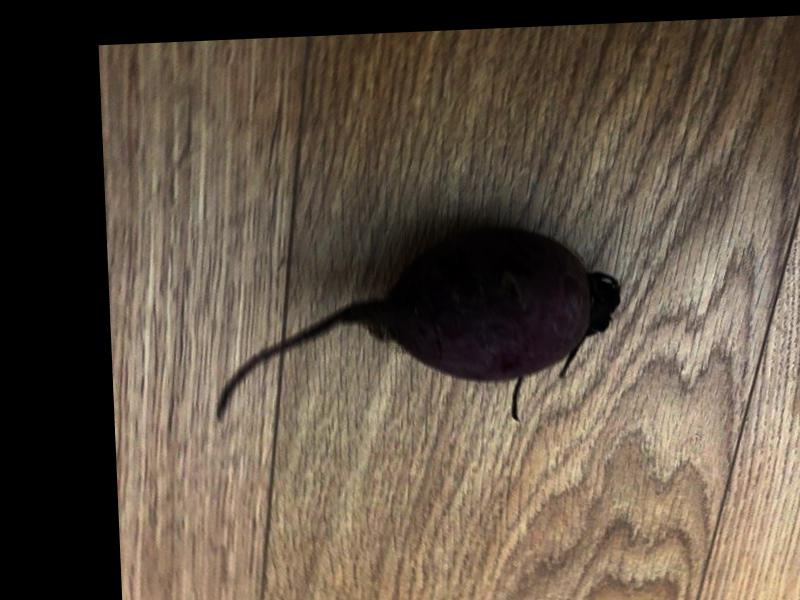Beet: (207, 226, 623, 432)
